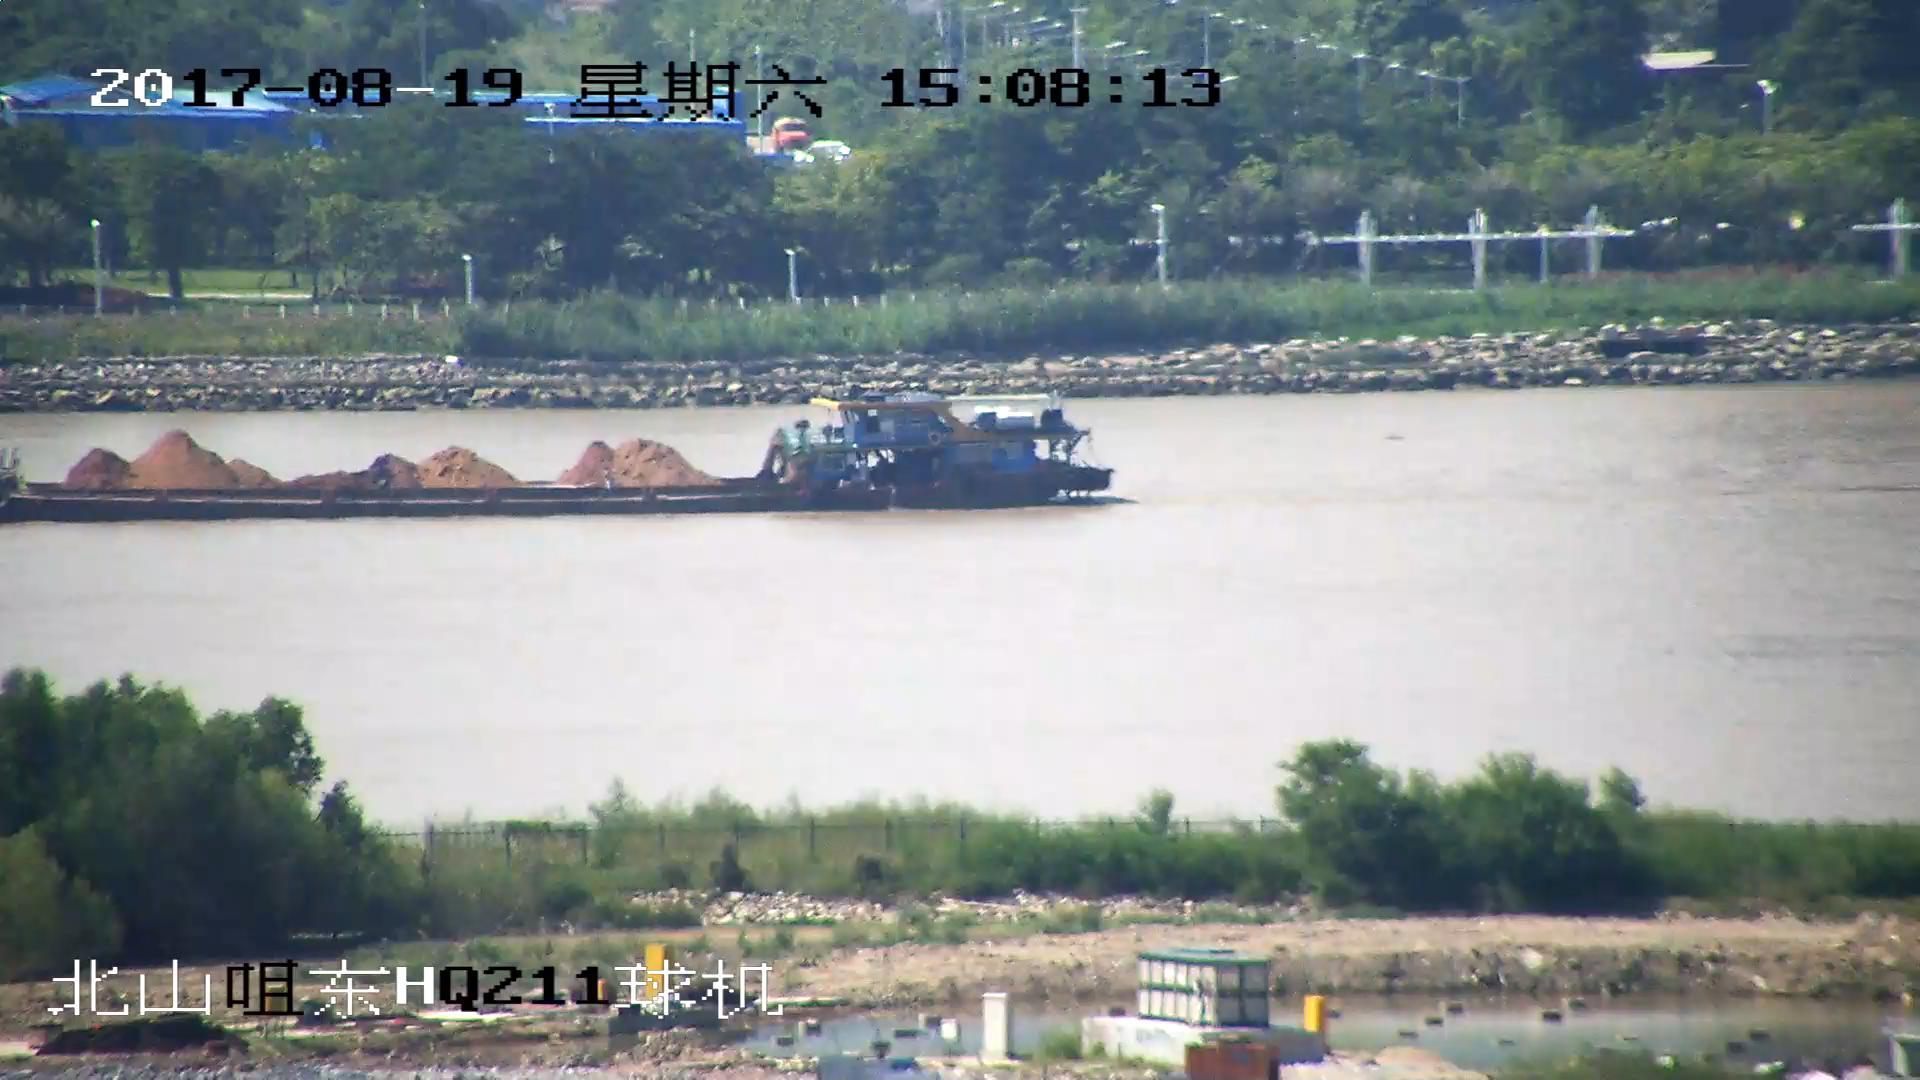Ship: (3, 388, 1116, 522)
